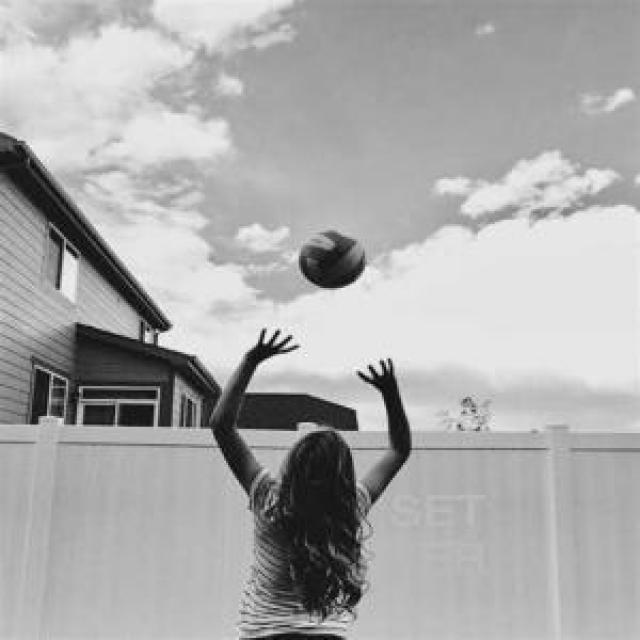volleyball: (300, 230, 366, 288)
